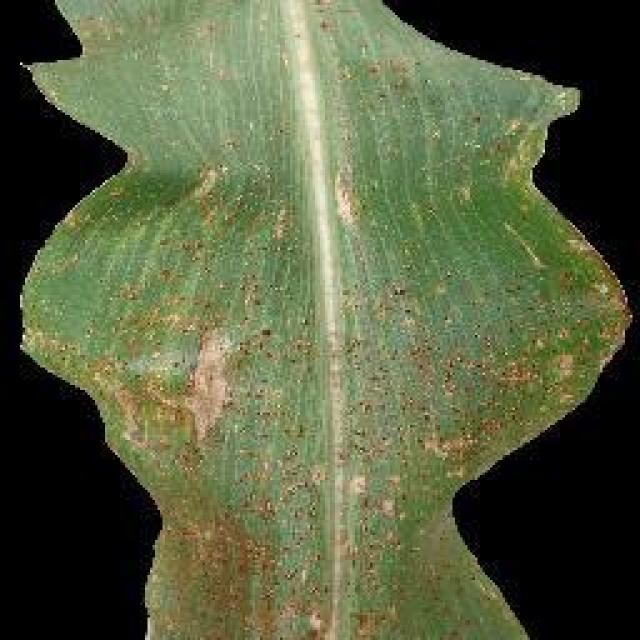Corn Common Rust: (132, 182, 552, 616)
